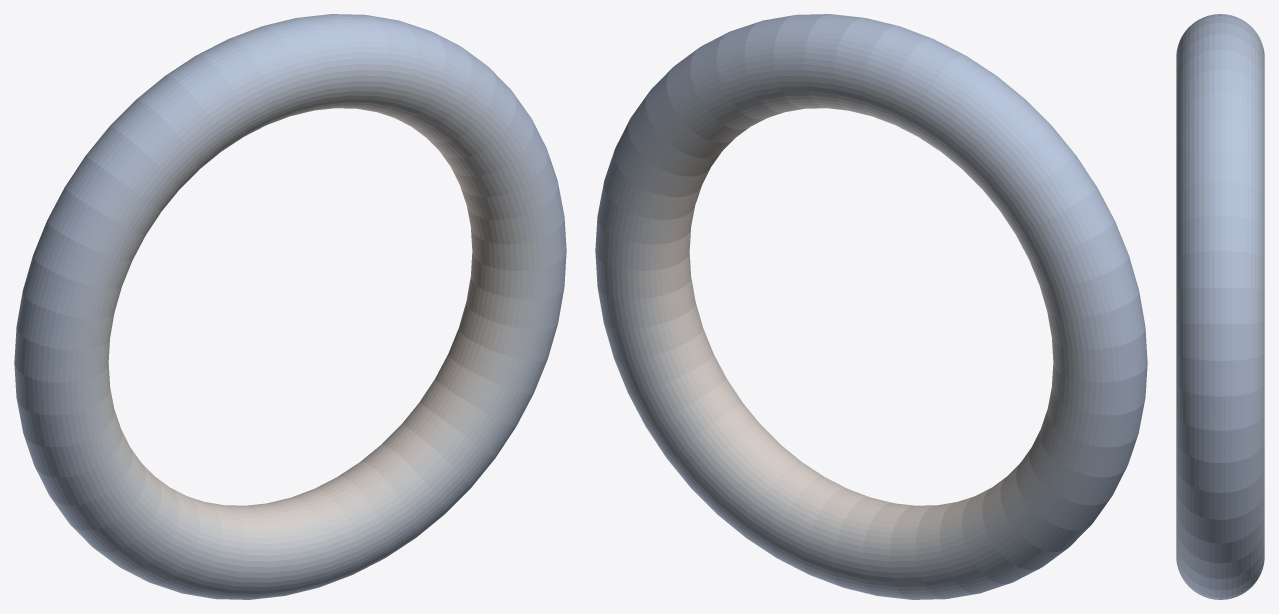
The picture shows the model from 3 angles, left to right: view 1: azimuth 30°, elevation 25°; view 2: azimuth 150°, elevation 25°; view 3: azimuth 270°, elevation 25°; orthographic projection. The views are drawn at different scales.
Visible parts, largest first — view 1: world; view 2: world; view 3: world.
Part boxes in pixels (left/top/right/bottom): world: left=14, top=14, right=566, bottom=599; world: left=595, top=14, right=1147, bottom=599; world: left=1176, top=14, right=1264, bottom=599.
Bounding box in the file's own units: 29.07 × 29.01 × 4.39.
